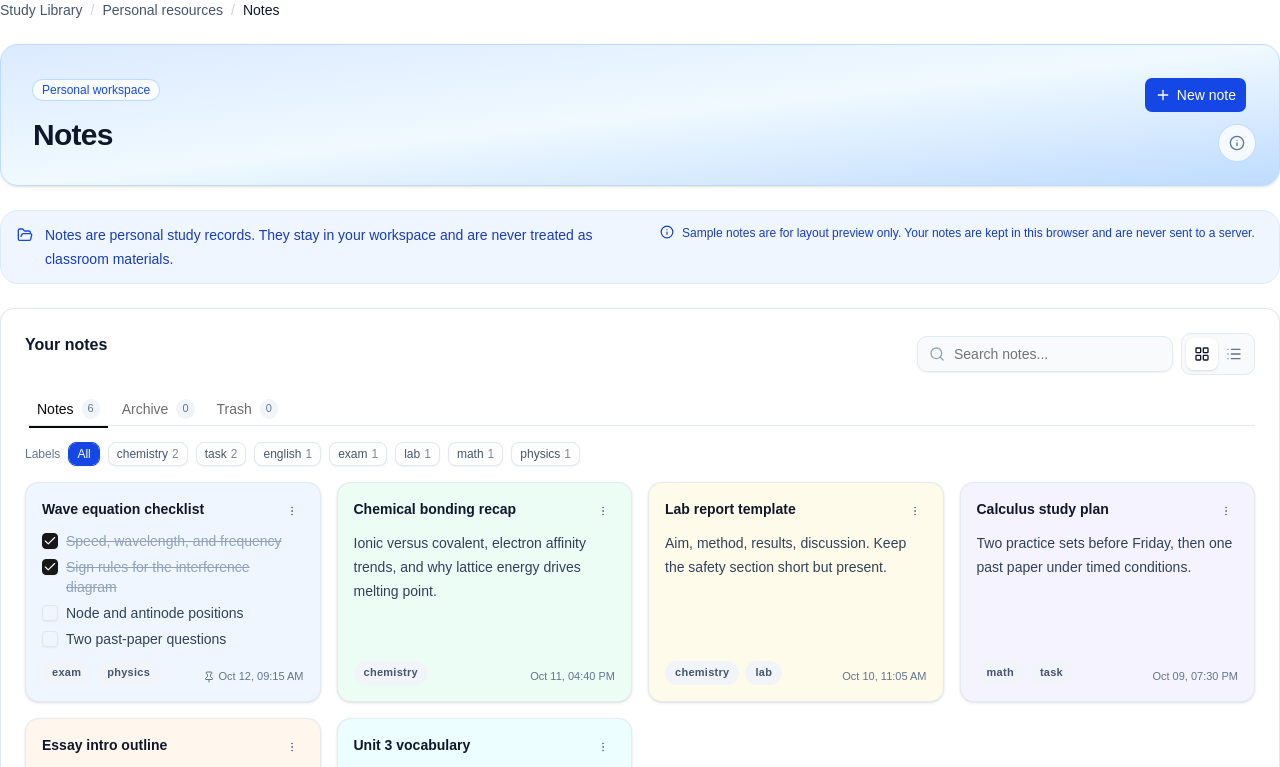
Test: NotesView › moves a note to the trash and restores it with undo
This screenshot has width=1280, height=767.
Click the button "Chemical bonding recap" at (468, 509), box top-left (354, 499), bottom-right (583, 519)
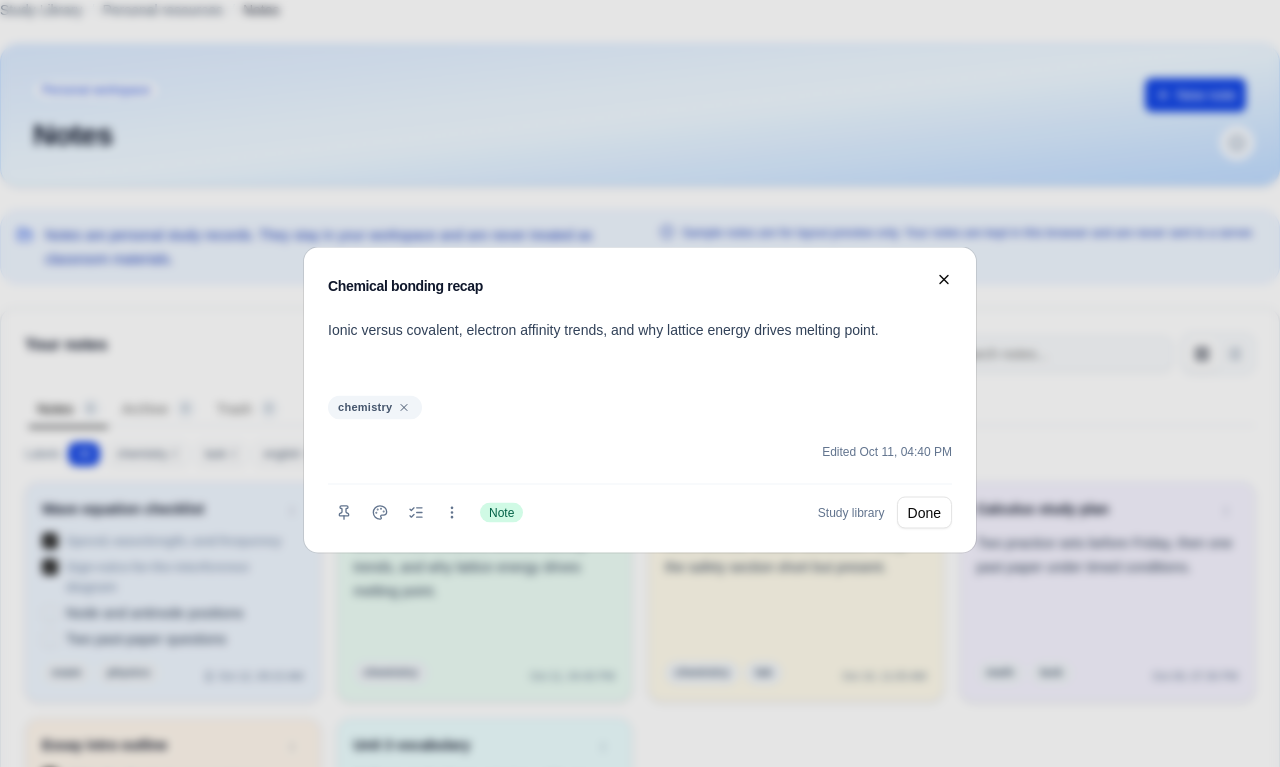
Click the button named "More note options" at (452, 512), box top-left (436, 496), bottom-right (468, 528)
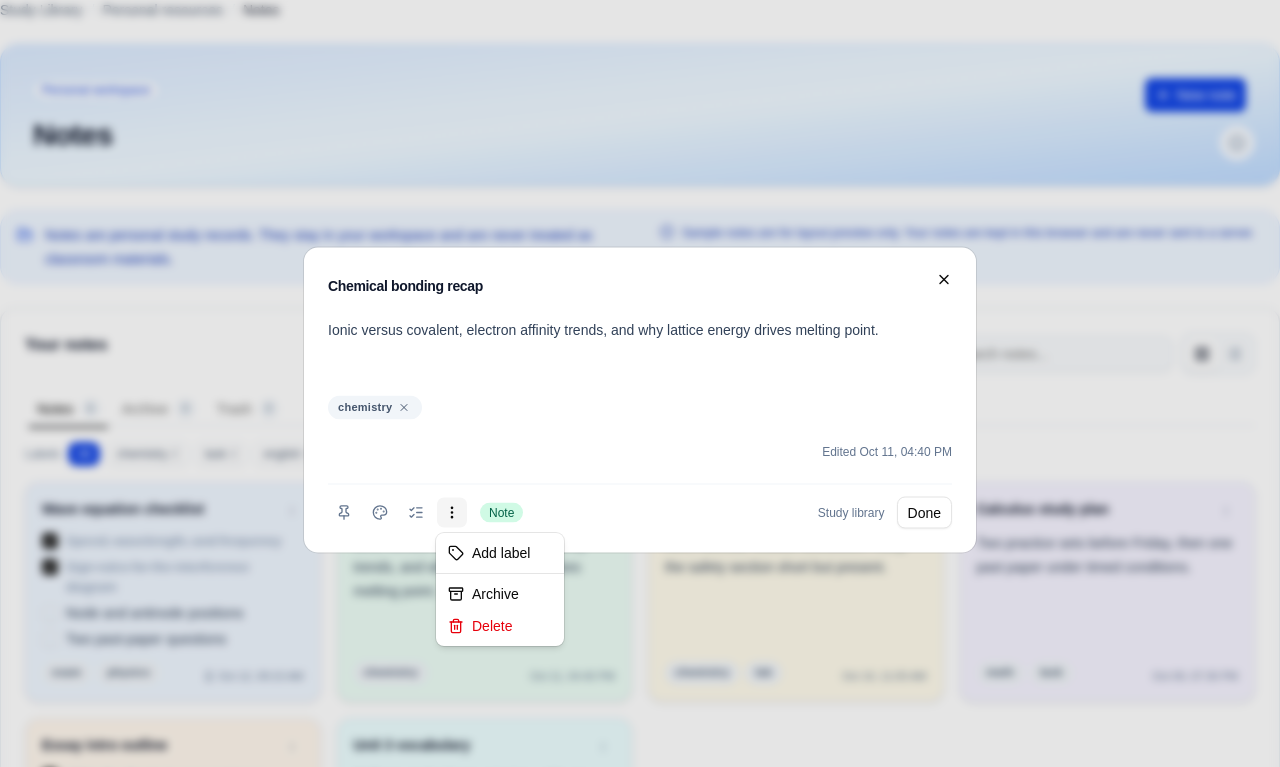
Click the menu item "Delete" at (480, 626), box top-left (448, 618), bottom-right (512, 634)
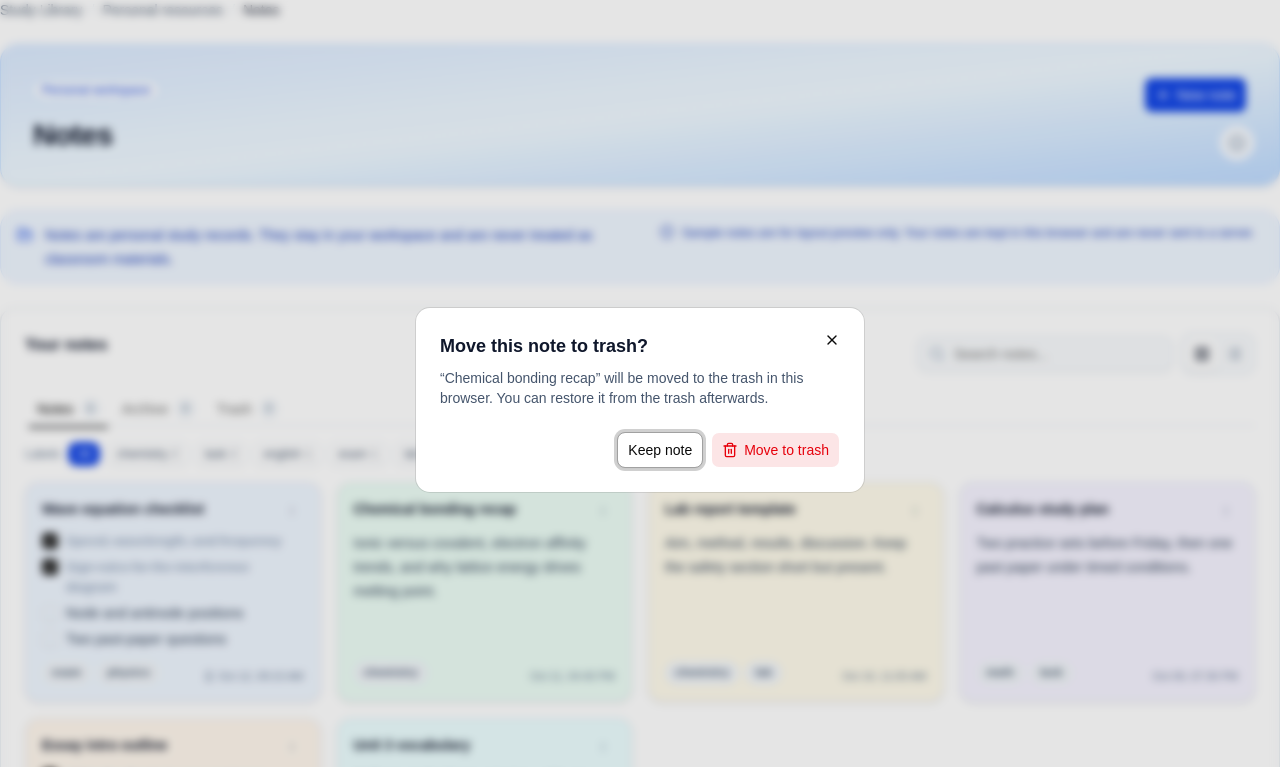
Click the button "Move to trash" at (776, 450), box top-left (711, 432), bottom-right (840, 468)
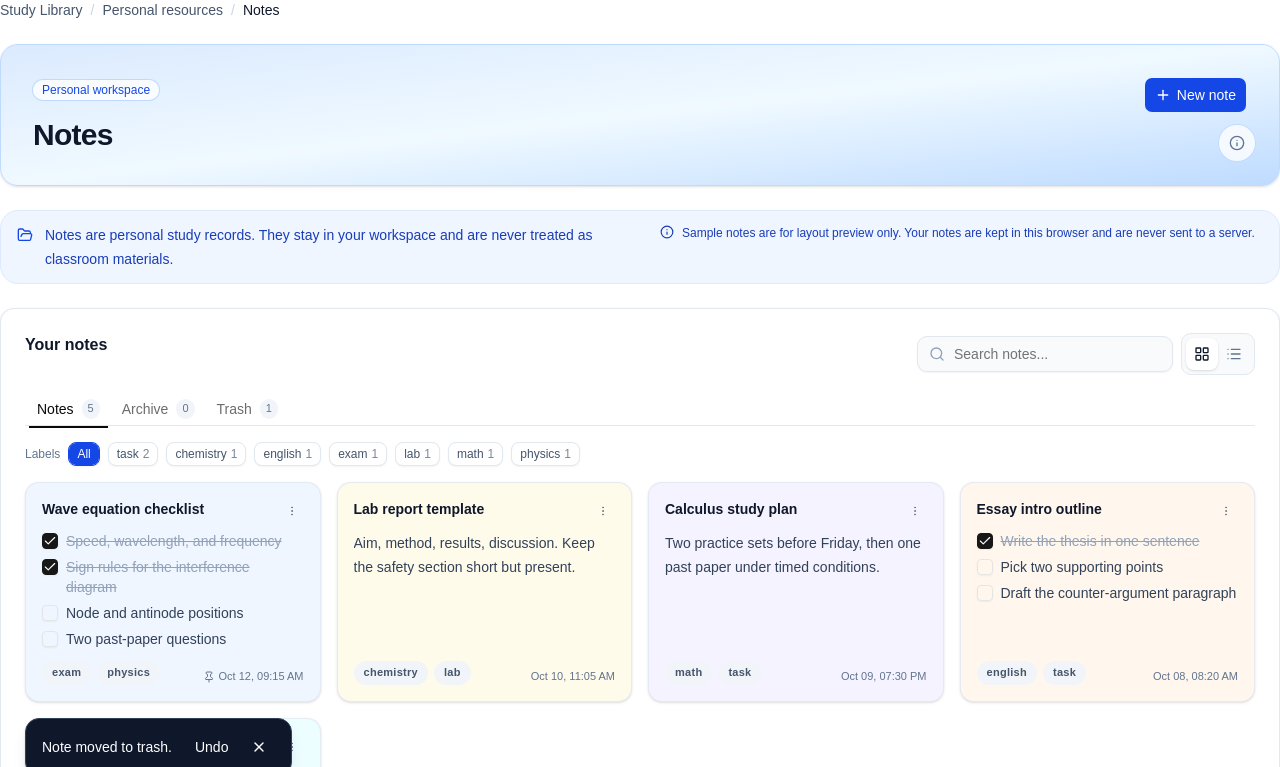
Expected: the button "Chemical bonding recap" is gone
Expected: the message shows "moved to trash", top-left (42, 739), bottom-right (172, 755)
Click the button "Undo" at (212, 747), box top-left (184, 731), bottom-right (240, 763)
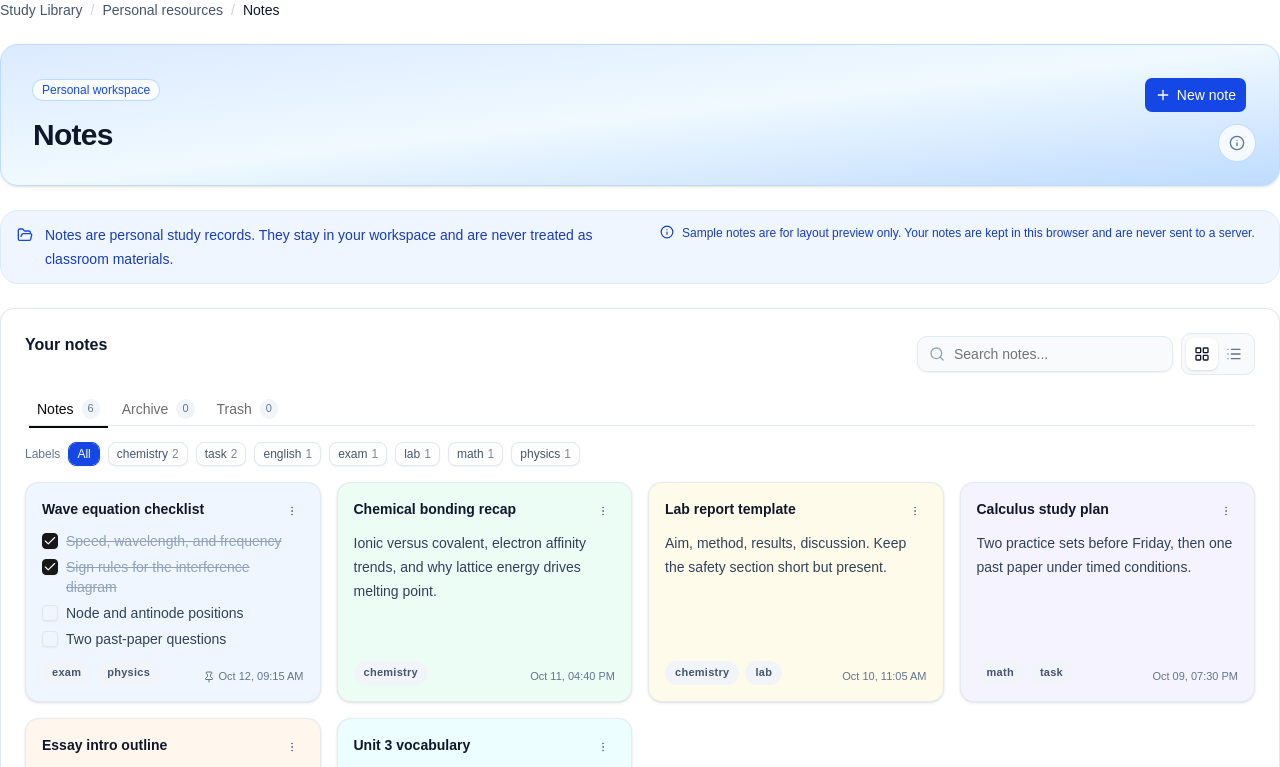
Expected: the button "Chemical bonding recap" is shown, top-left (354, 499), bottom-right (583, 519)
